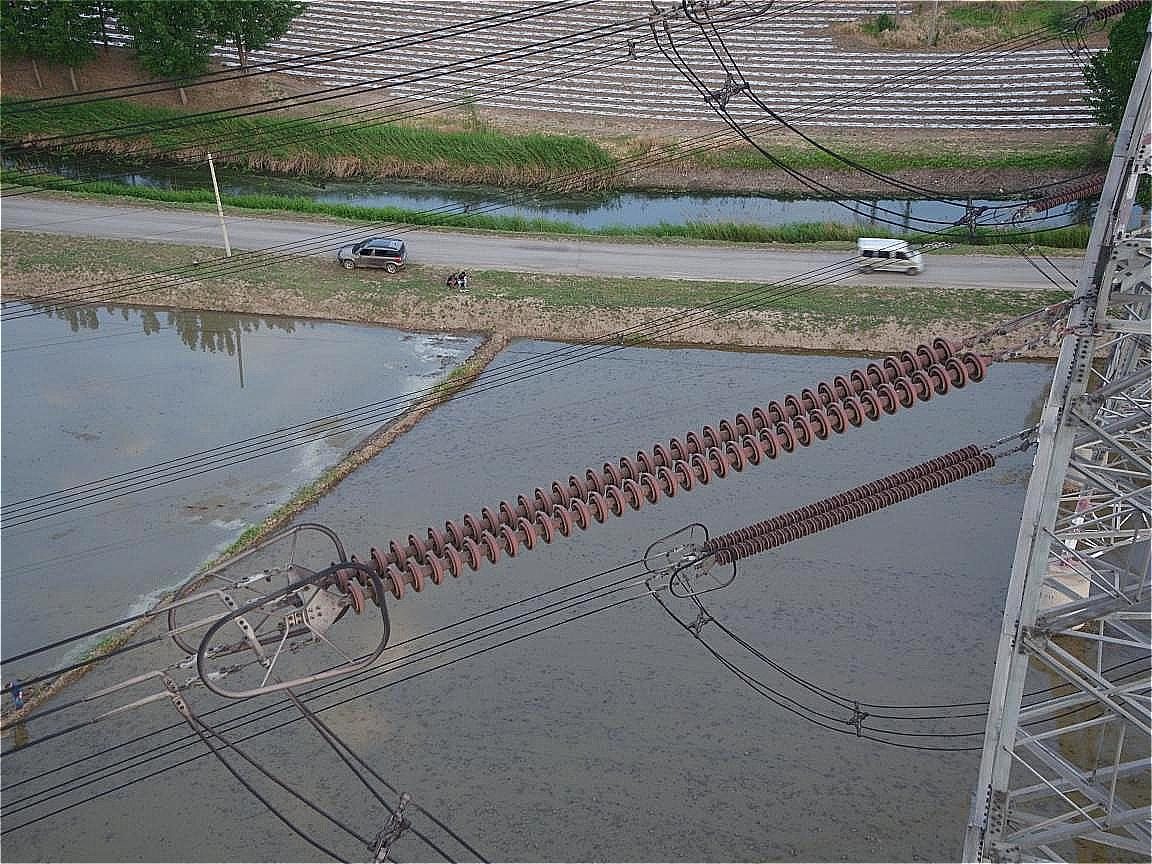insultor1: (326, 331, 1008, 627)
insultor2: (697, 437, 1006, 596)
